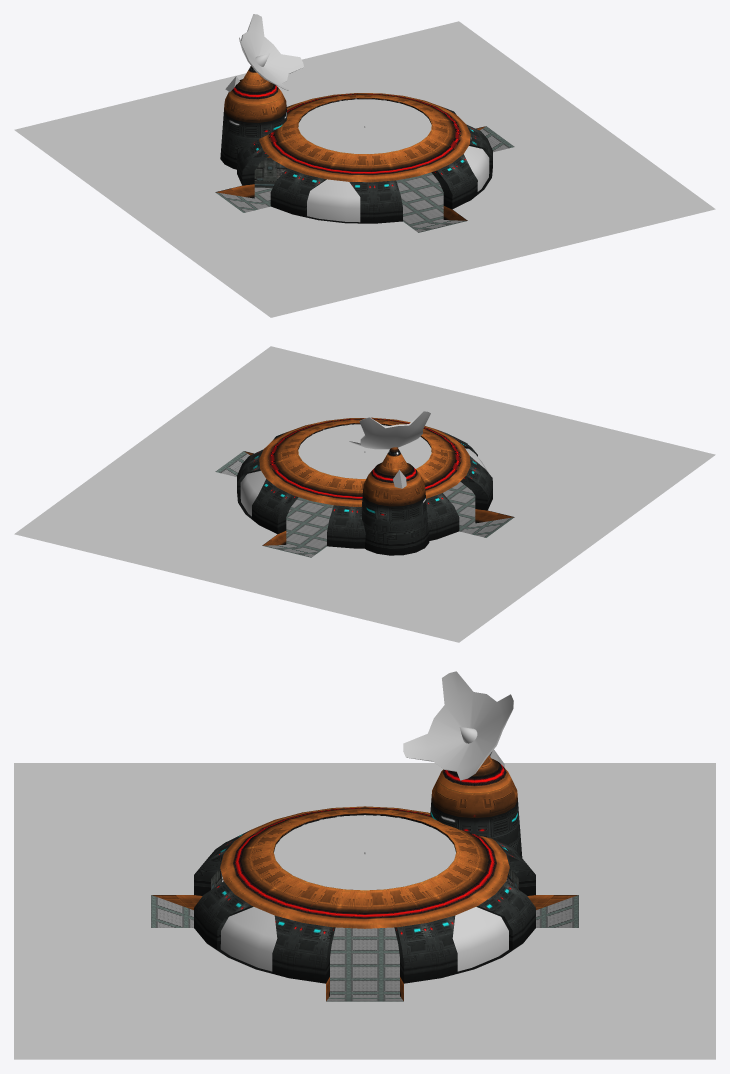
File: ibcbun00.FBX
The picture shows the model from 3 angles, top to bottom: view 1: azimuth 30°, elevation 25°; view 2: azimuth 150°, elevation 25°; view 3: azimuth 270°, elevation 25°; orthographic projection. The views are drawn at different scales.
Parts seen in each view (by area): view 1: terrain, bunker, glass__2, floor, dish, walls; view 2: terrain, bunker, glass__2, floor, dish; view 3: terrain, bunker, glass__2, floor, dish.
Boxes of the visible parts, x1,y1,x2,y2 form: terrain: [14, 21, 715, 317]; bunker: [215, 66, 492, 223]; glass__2: [298, 99, 489, 222]; floor: [215, 126, 514, 232]; dish: [239, 14, 303, 90]; walls: [254, 156, 286, 187]; terrain: [14, 346, 715, 642]; bunker: [237, 417, 514, 555]; glass__2: [240, 424, 488, 516]; floor: [215, 443, 514, 557]; dish: [349, 411, 430, 449]; terrain: [14, 763, 715, 1059]; bunker: [152, 755, 577, 1000]; glass__2: [220, 815, 508, 971]; floor: [151, 895, 578, 1001]; dish: [403, 671, 513, 780].
Bounding box in the file's own units: 32 × 9.98 × 32.
